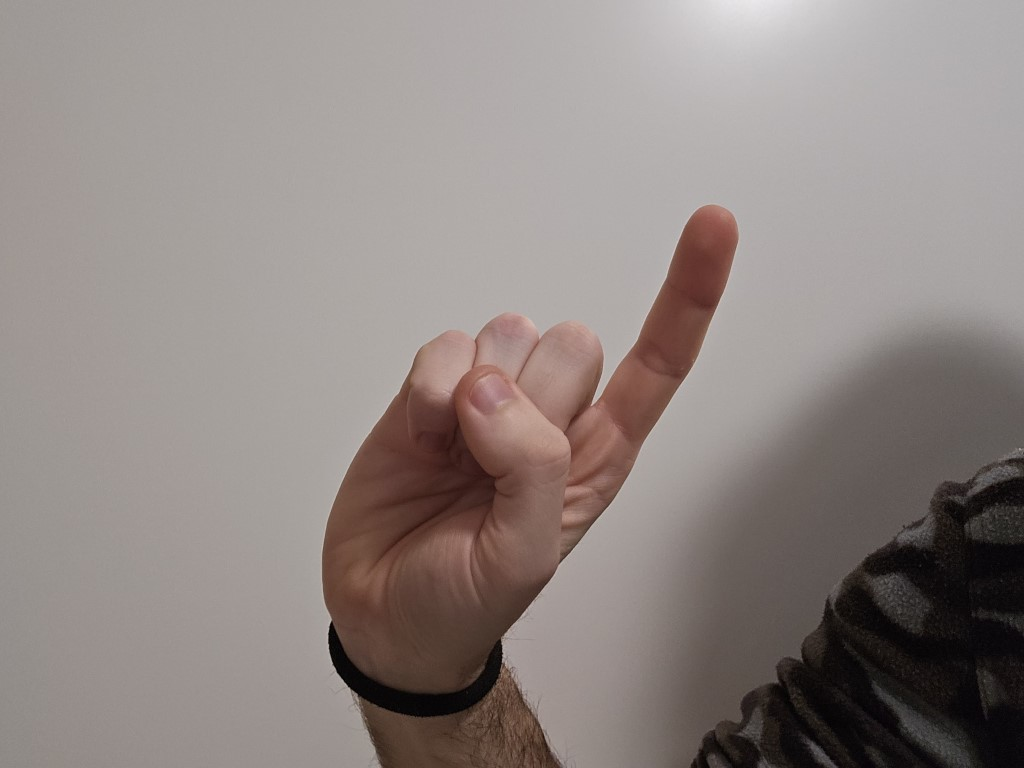z: (277, 189, 783, 648)
